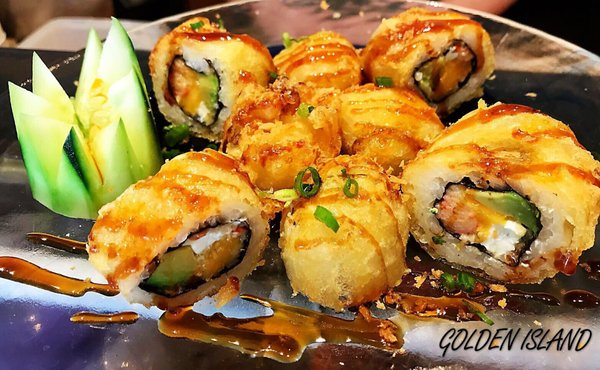soup: (399, 103, 600, 285), (88, 146, 271, 311)
